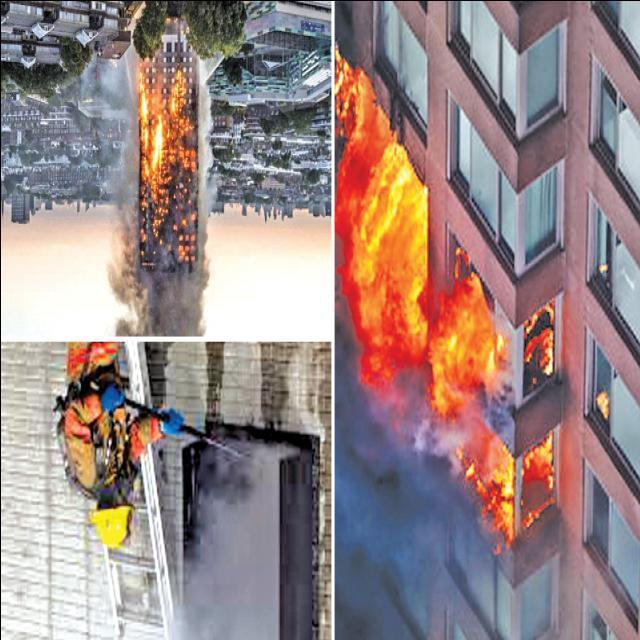Fire: (337, 66, 556, 540), (133, 48, 205, 240)
